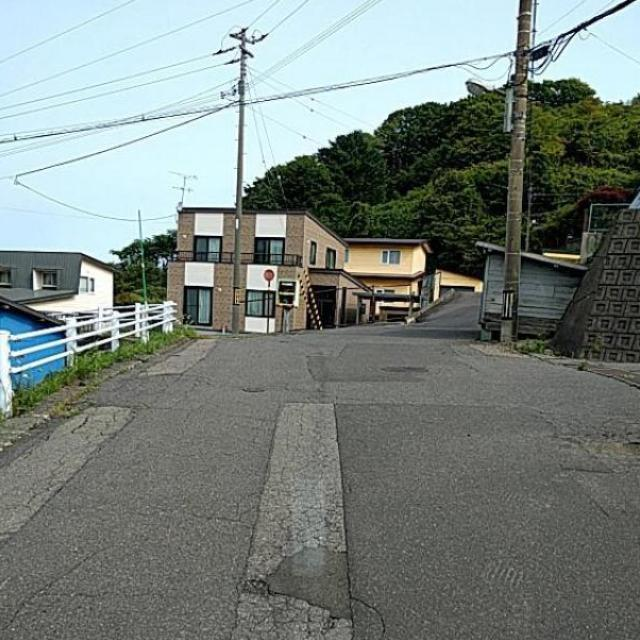Sambungan: (230, 405, 356, 640)
